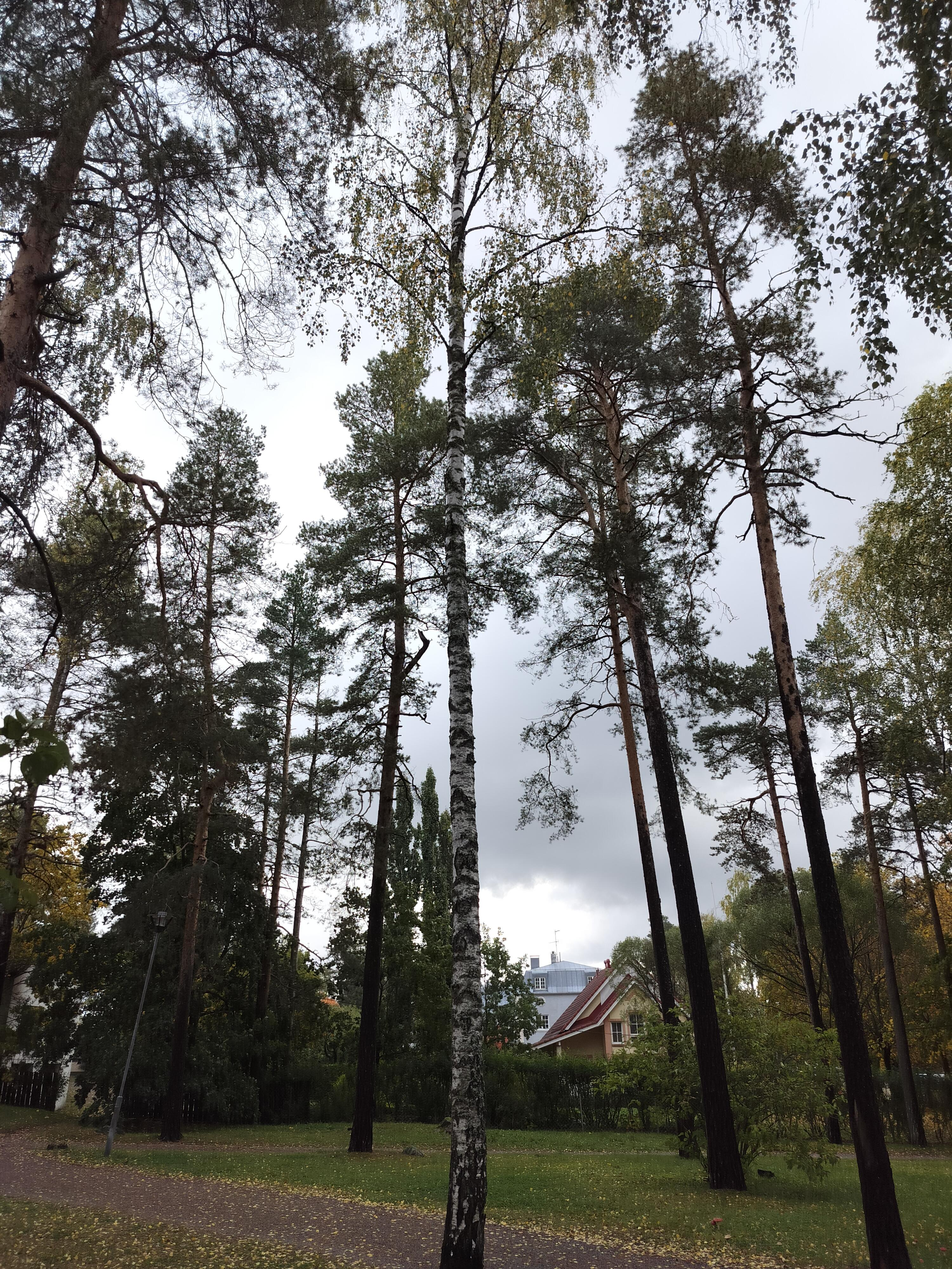Birch: (286, 0, 594, 1257)
